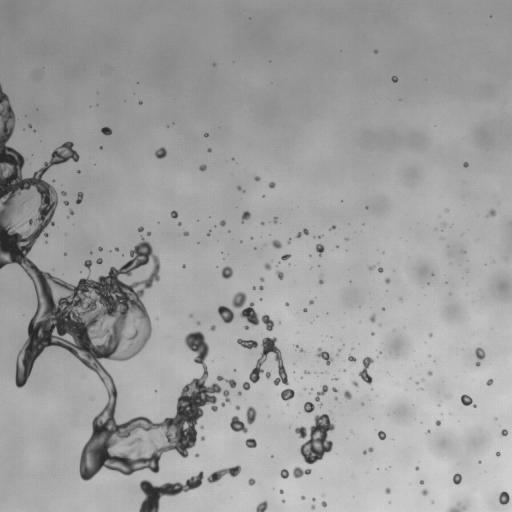droplet: (242, 337, 288, 390), (294, 414, 335, 464), (217, 305, 234, 323), (230, 416, 247, 433), (293, 466, 311, 478), (460, 394, 475, 407), (280, 389, 294, 402), (246, 406, 256, 424), (221, 266, 233, 279), (499, 491, 509, 505), (155, 147, 166, 158), (303, 401, 314, 412), (315, 243, 324, 256), (245, 438, 256, 448), (256, 501, 267, 511), (241, 211, 250, 222), (453, 473, 461, 484), (76, 192, 83, 204), (280, 469, 289, 478), (101, 127, 111, 135), (84, 260, 92, 270), (272, 240, 281, 248), (378, 430, 386, 439), (170, 210, 178, 218), (348, 354, 356, 362), (276, 270, 283, 279), (344, 390, 351, 399), (487, 209, 495, 216), (500, 429, 508, 436), (281, 254, 290, 260), (268, 181, 275, 188), (264, 263, 271, 270), (248, 478, 255, 485), (199, 165, 206, 171), (486, 379, 493, 385), (435, 419, 441, 426), (370, 314, 375, 322), (391, 76, 397, 82), (368, 265, 375, 270), (422, 488, 427, 495), (272, 217, 277, 223), (220, 220, 225, 226), (96, 258, 102, 263), (377, 267, 383, 272), (352, 381, 358, 386), (463, 162, 468, 167), (254, 176, 259, 181), (330, 225, 335, 230), (138, 226, 143, 231), (183, 231, 188, 236), (318, 279, 323, 284), (385, 278, 390, 283), (210, 325, 215, 330), (332, 387, 337, 392), (385, 488, 390, 493), (321, 501, 326, 506), (69, 209, 73, 215), (61, 191, 66, 195), (259, 285, 263, 290), (496, 451, 500, 456), (28, 123, 32, 127), (204, 133, 208, 137), (207, 148, 211, 152), (64, 201, 68, 205), (98, 247, 102, 251), (260, 277, 264, 281), (309, 300, 313, 304), (285, 302, 289, 306), (303, 308, 307, 312), (196, 321, 200, 325), (428, 371, 432, 375), (235, 405, 239, 409), (195, 453, 199, 457), (415, 466, 419, 470), (419, 480, 423, 484), (279, 489, 283, 493), (311, 505, 315, 509), (207, 231, 210, 236), (332, 377, 337, 380), (147, 232, 150, 236), (287, 239, 290, 243), (115, 247, 118, 251), (429, 333, 432, 337), (238, 391, 241, 395), (201, 436, 204, 440), (301, 496, 305, 499), (374, 50, 377, 53), (178, 222, 181, 225), (252, 286, 255, 289), (421, 378, 424, 381), (334, 397, 337, 400), (427, 430, 430, 433), (282, 499, 285, 502), (318, 235, 322, 237), (399, 297, 401, 301), (139, 101, 141, 104), (77, 170, 80, 172), (261, 222, 264, 224), (182, 265, 185, 267), (382, 307, 384, 310), (305, 371, 308, 373), (416, 381, 418, 384), (419, 388, 422, 390), (200, 426, 203, 428), (312, 498, 315, 500), (213, 63, 215, 65), (445, 209, 447, 211), (345, 238, 347, 240), (463, 251, 465, 253), (259, 298, 261, 300), (372, 333, 374, 335), (438, 404, 440, 406), (271, 455, 273, 457), (431, 500, 433, 502)
ligament: (0, 83, 236, 478), (139, 471, 203, 511), (232, 291, 274, 330), (207, 465, 241, 483), (359, 357, 373, 385), (316, 347, 332, 365), (315, 385, 328, 406), (237, 338, 258, 349), (475, 347, 485, 366), (446, 503, 464, 511), (296, 228, 308, 237), (363, 447, 373, 454), (295, 345, 304, 352), (237, 186, 244, 192)
